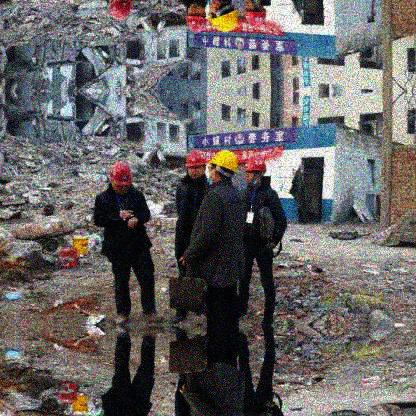helmet: (208, 1, 239, 32), (209, 149, 239, 181), (107, 160, 134, 193), (242, 156, 270, 186), (185, 150, 208, 180), (184, 3, 208, 31), (244, 1, 267, 26)
